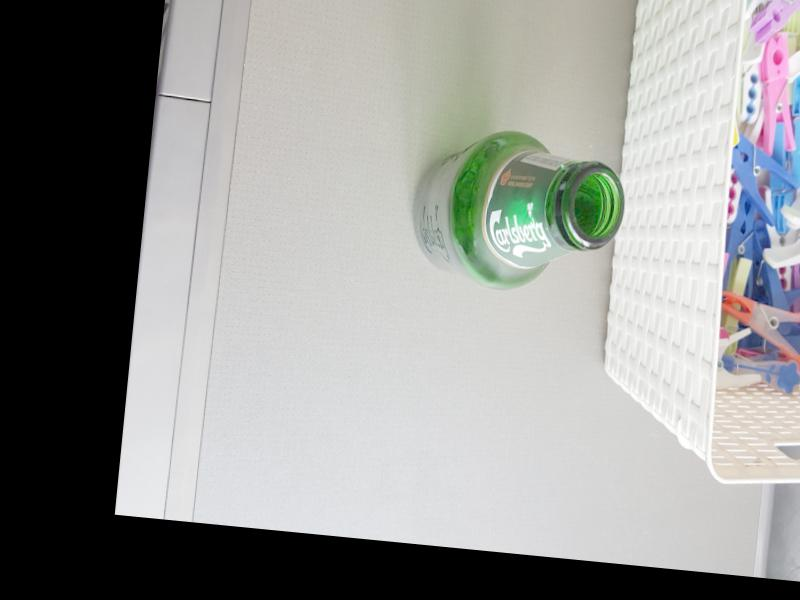Beer: (404, 122, 629, 302)
